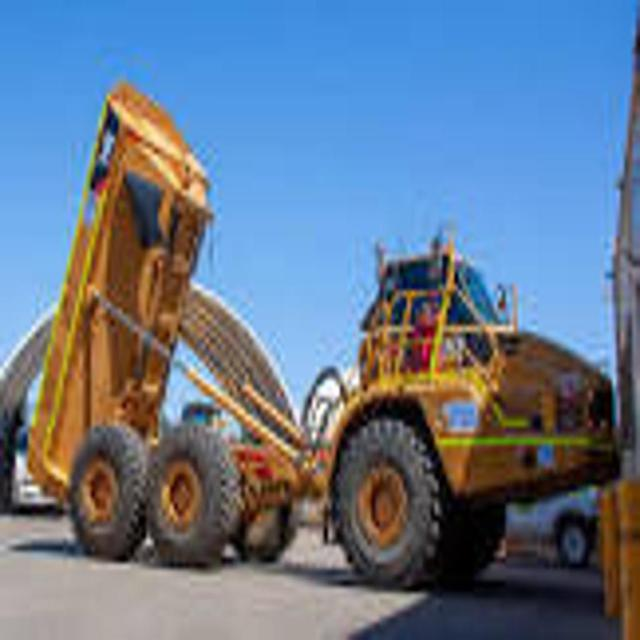dump_truck: (24, 47, 623, 640)
